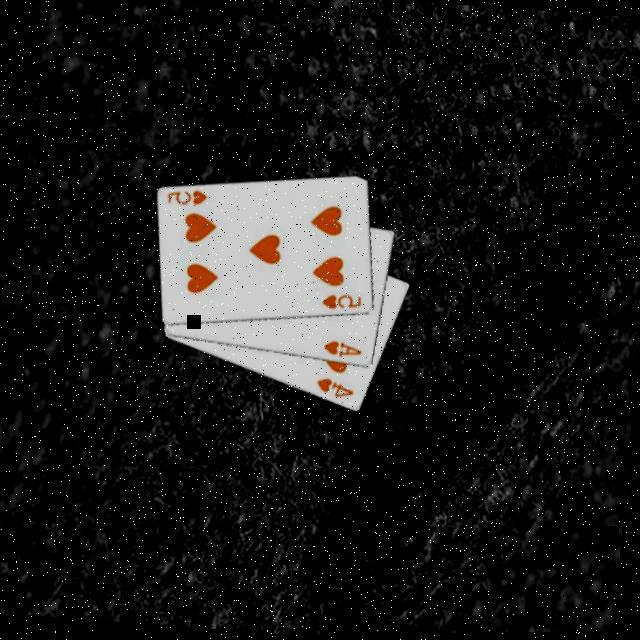4H: (312, 376, 358, 405)
5H: (318, 291, 365, 318), (164, 187, 212, 212)
AH: (320, 339, 366, 364)
